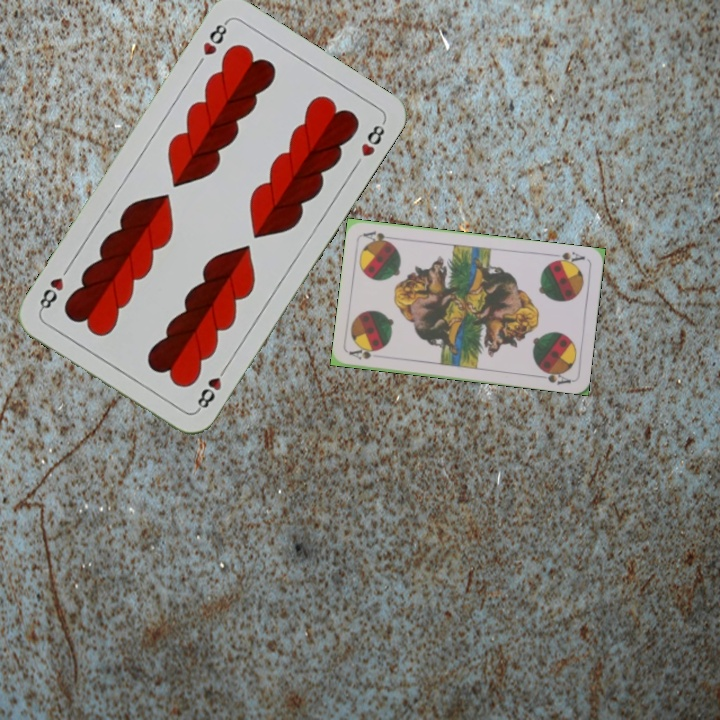H8: (192, 361, 230, 414), (198, 17, 230, 58)
SA: (547, 248, 588, 268), (346, 344, 382, 362)
